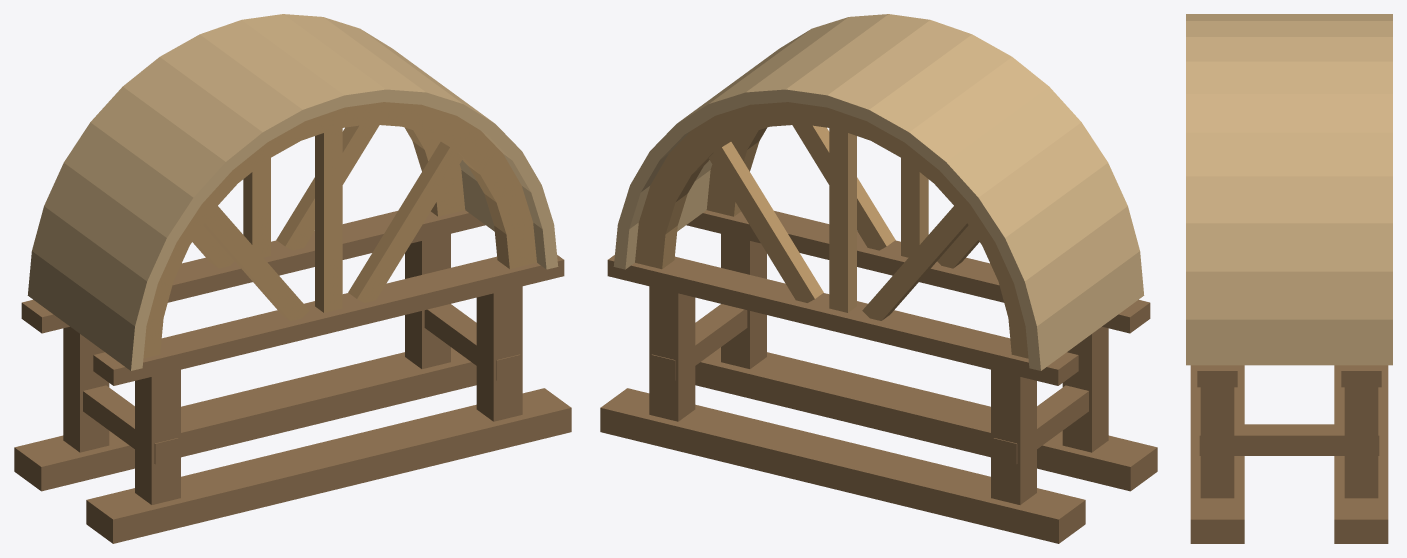
The picture shows the model from 3 angles, left to right: view 1: azimuth 30°, elevation 25°; view 2: azimuth 150°, elevation 25°; view 3: azimuth 270°, elevation 25°; orthographic projection.
Parts seen in each view (by area): view 1: WholeBarrelFormDeck, FrontWholeGroundSole, RearWholeGroundSole, FrontSpringingCrossbeam, FrontWholeCurvedRib, RearSpringingCrossbeam, FrontRightPost, FrontLeftPost, FrontRightFanWeb, FrontCentreFanWeb, RearLeftPost, RearRightPost (+7 smaller); view 2: WholeBarrelFormDeck, RearWholeGroundSole, FrontWholeGroundSole, RearSpringingCrossbeam, RearWholeCurvedRib, FrontSpringingCrossbeam, RearRightPost, RearLeftPost, RearRightFanWeb, RearCentreFanWeb, FrontLeftPost, FrontRightPost (+7 smaller); view 3: WholeBarrelFormDeck, FrontWholeGroundSole, RearWholeGroundSole, FrontRightPost, RearRightPost, RightDepthTie, FrontSpringingCrossbeam, RearSpringingCrossbeam.
Boxes of the visible parts, x1,y1,x2,y2 form: WholeBarrelFormDeck: [27, 14, 558, 370]; FrontWholeGroundSole: [86, 388, 571, 543]; RearWholeGroundSole: [14, 347, 476, 491]; FrontSpringingCrossbeam: [93, 255, 564, 385]; FrontWholeCurvedRib: [143, 102, 536, 358]; RearSpringingCrossbeam: [21, 210, 485, 333]; FrontRightPost: [476, 286, 522, 421]; FrontLeftPost: [135, 369, 180, 504]; FrontRightFanWeb: [348, 142, 463, 302]; FrontCentreFanWeb: [315, 128, 342, 312]; RearLeftPost: [63, 327, 109, 452]; RearRightPost: [405, 234, 450, 368]; WholeBarrelFormDeck: [613, 14, 1144, 370]; RearWholeGroundSole: [600, 388, 1085, 543]; FrontWholeGroundSole: [695, 347, 1157, 491]; RearSpringingCrossbeam: [607, 255, 1078, 385]; RearWholeCurvedRib: [635, 102, 1028, 358]; FrontSpringingCrossbeam: [686, 210, 1150, 333]; RearRightPost: [649, 286, 695, 421]; RearLeftPost: [991, 369, 1036, 504]; RearRightFanWeb: [708, 142, 823, 302]; RearCentreFanWeb: [829, 128, 856, 312]; FrontLeftPost: [1062, 327, 1108, 452]; FrontRightPost: [721, 234, 766, 368]; WholeBarrelFormDeck: [1186, 14, 1392, 365]; FrontWholeGroundSole: [1190, 365, 1244, 543]; RearWholeGroundSole: [1334, 365, 1388, 543]; FrontRightPost: [1200, 387, 1234, 498]; RearRightPost: [1344, 387, 1378, 498]; RightDepthTie: [1199, 424, 1379, 455]; FrontSpringingCrossbeam: [1197, 365, 1237, 387]; RearSpringingCrossbeam: [1341, 365, 1381, 387].
Bounding box in the file's own units: 2.36 × 1.94 × 0.92.
